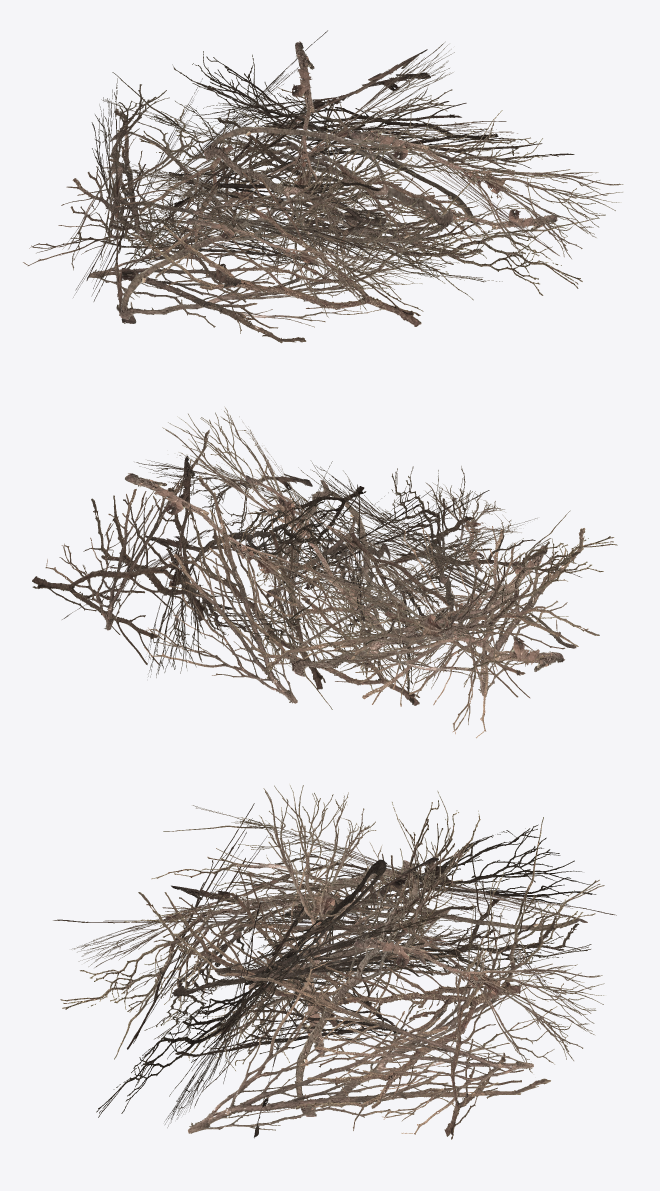
The model's file is PileOfTwigs4.fbx.
3 renders of one model, top to bottom at view 1: azimuth 30°, elevation 25°; view 2: azimuth 150°, elevation 25°; view 3: azimuth 270°, elevation 25°, orthographic. The views are drawn at different scales.
Parts seen in each view (by area): view 1: PileOfTwigs4; view 2: PileOfTwigs4; view 3: PileOfTwigs4.
Boxes of the visible parts, x1,y1,x2,y2 form: PileOfTwigs4: [23, 30, 623, 343]; PileOfTwigs4: [32, 406, 617, 738]; PileOfTwigs4: [53, 784, 616, 1139].
Bounding box in the file's own units: 329 × 152 × 288.
